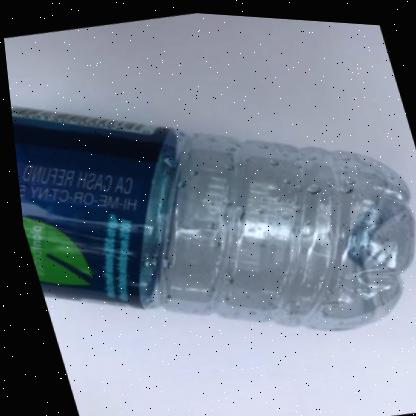Plastic: (8, 104, 410, 324)
